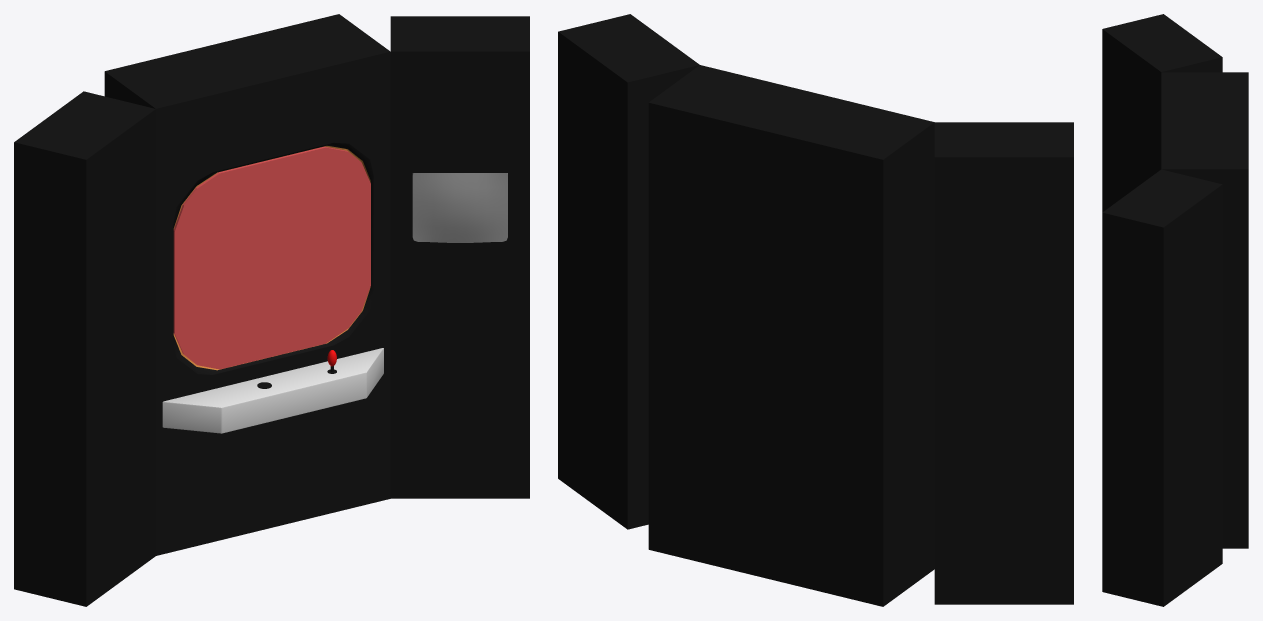
The model's file is MeteoriteExhibit.FBX.
The picture shows the model from 3 angles, left to right: view 1: azimuth 30°, elevation 25°; view 2: azimuth 150°, elevation 25°; view 3: azimuth 270°, elevation 25°; orthographic projection. The views are drawn at different scales.
Visible parts, largest first — view 1: Box001; view 2: Box001; view 3: Box001.
Boxes of the visible parts, <box> form: Box001: <box>14,14,529,606</box>; Box001: <box>558,14,1073,606</box>; Box001: <box>1102,14,1248,606</box>.
Bounding box in the file's own units: 84.24 × 69.78 × 24.41.
